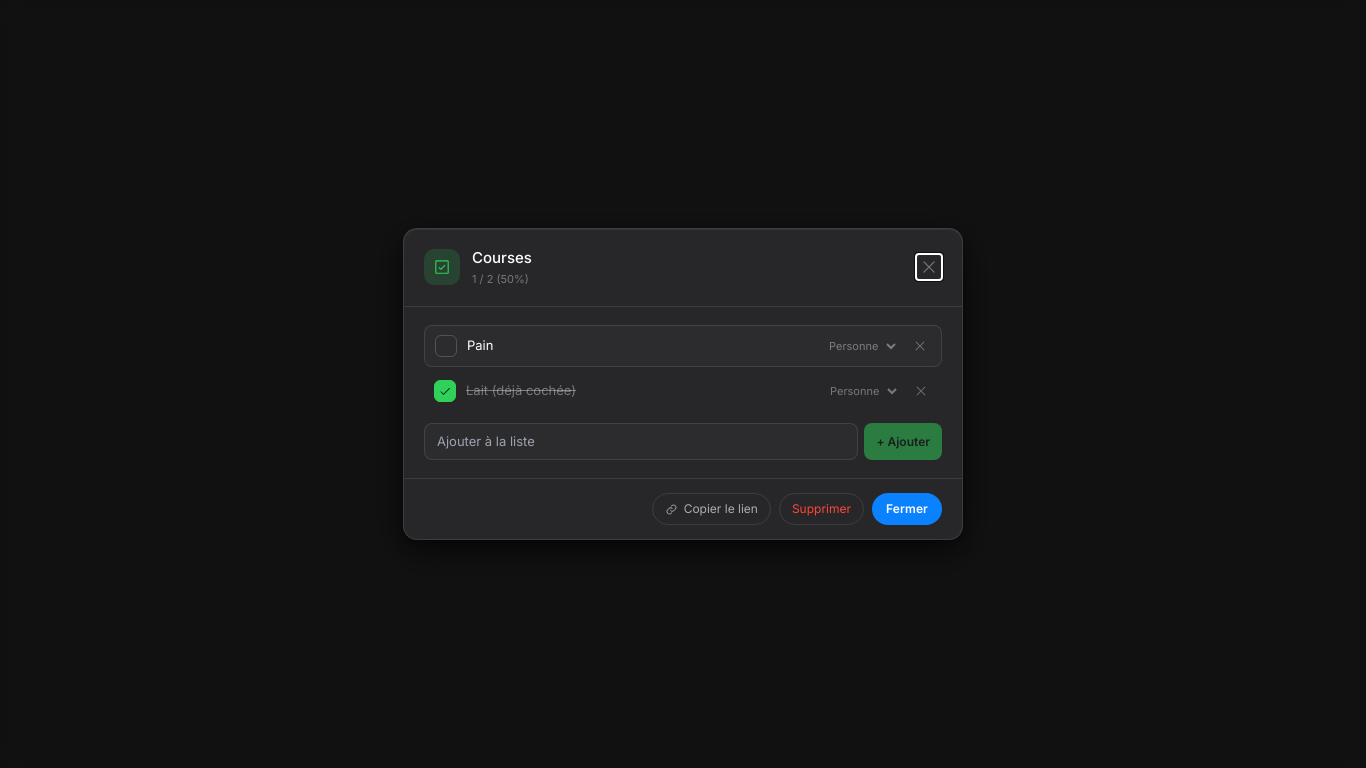
Test: TodoListModal — assigner quelqu’un qui n’est plus membre › laisse les autres erreurs telles quelles
Step 1. Select "Léa" in the dropdown named "Assigner « Pain » à" → (860, 346), box [821,334,899,358]
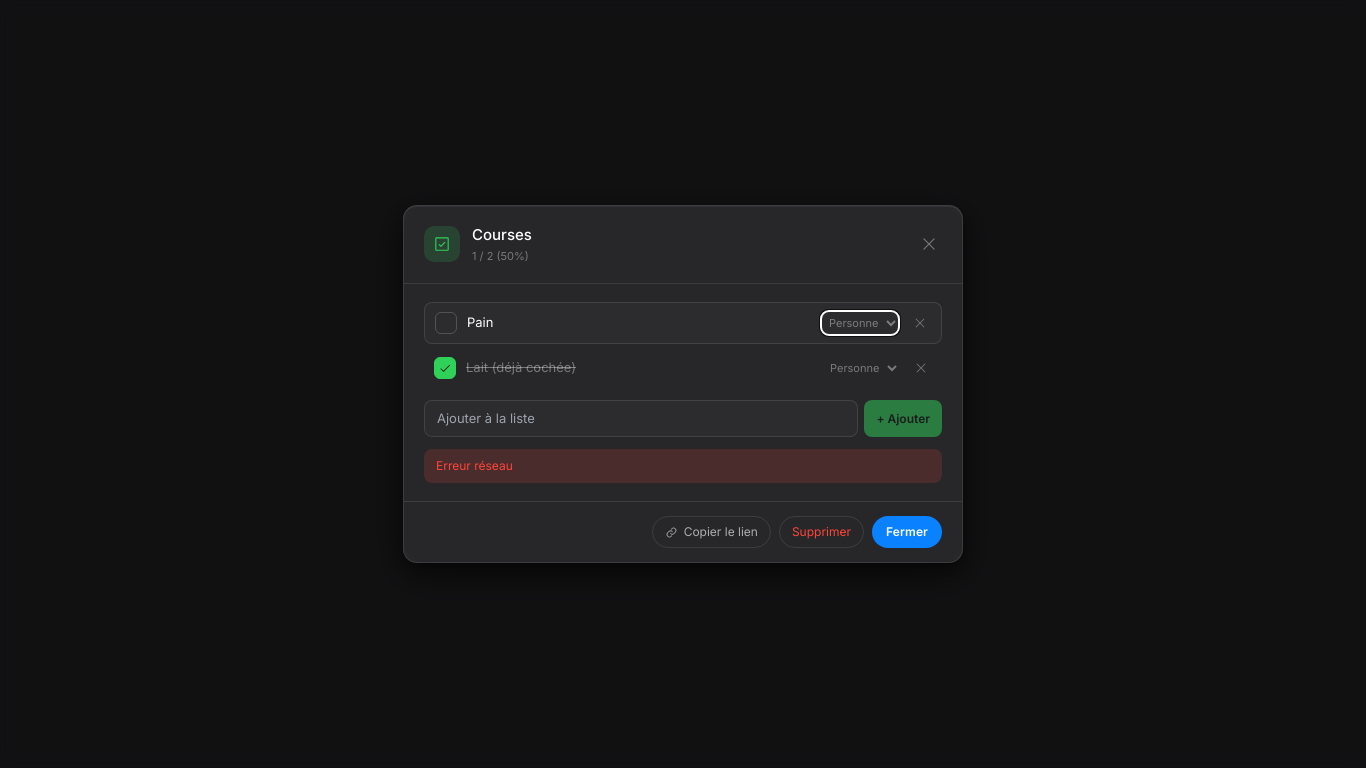
Now the text "Erreur réseau" is shown, box [424,449,942,483]
